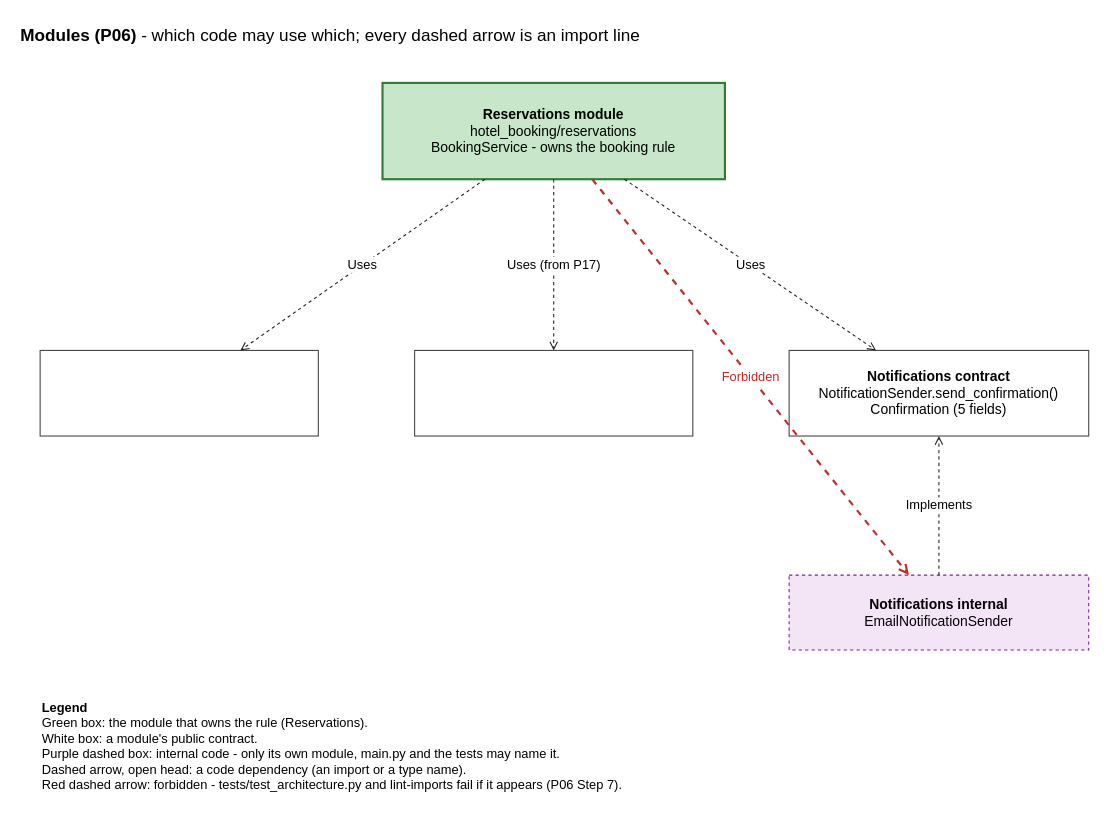
The diagram is 1107 pixels wide and 839 high, and some of its shapes have lost their labels. The shapes that lost their labels are listed below. From the top down, each one's centre as x and y in pixels, then its label:
At [178,392]: "Rooms contract Room, RoomCatalog.all()".
At [553,392]: "Payments contract PaymentService.take_deposit() PaymentStatus: Paid / Declined".
